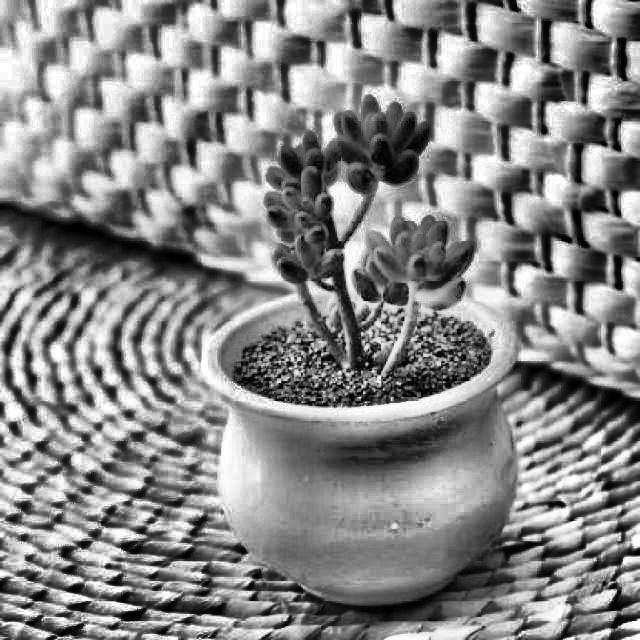plants: (235, 95, 500, 592)
